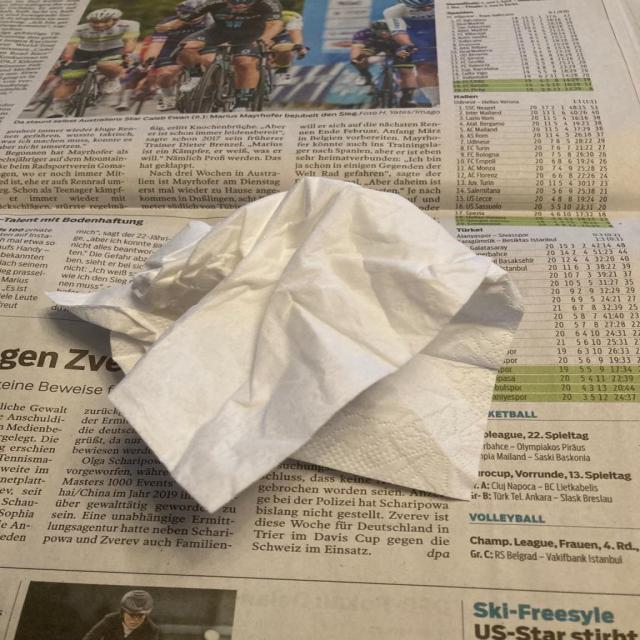kitchen paper: (38, 174, 536, 516)
